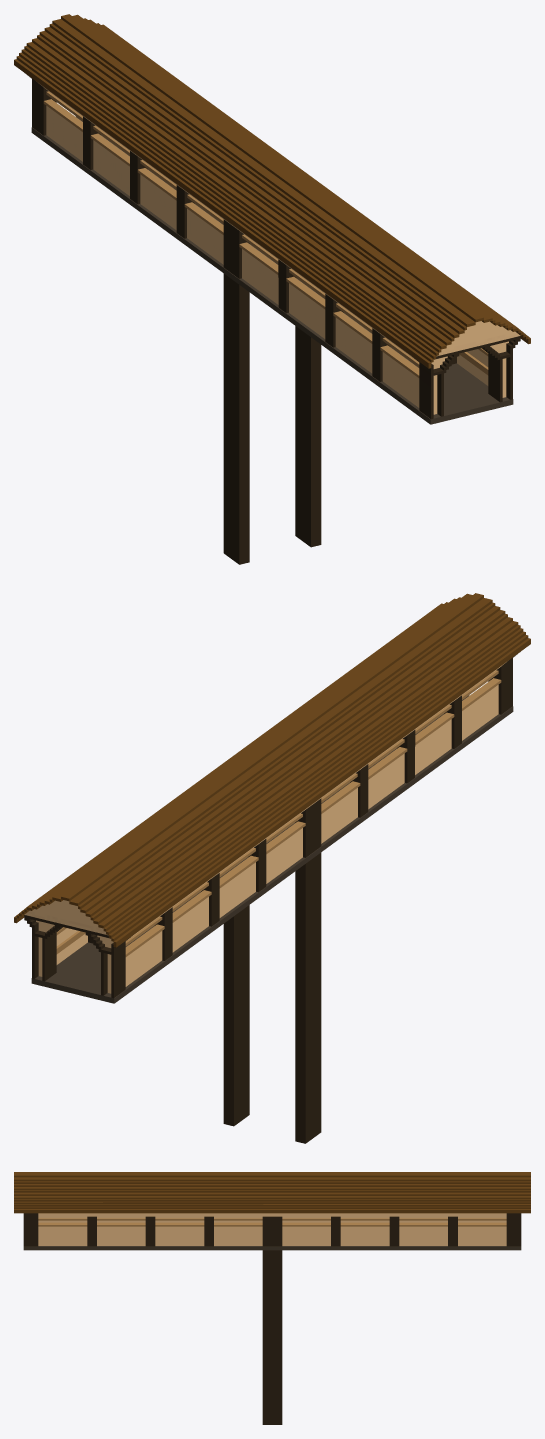
Rendered from bridge_alt_01.fbx.
3 views of the same model, one above another, from view 1: azimuth 30°, elevation 25°; view 2: azimuth 150°, elevation 25°; view 3: azimuth 270°, elevation 25° (orthographic). The views are drawn at different scales.
Parts seen in each view (by area): view 1: bridge; view 2: bridge; view 3: bridge.
Part boxes in pixels (box(x1,y1,x2,y2)): bridge: box(14, 14, 530, 564); bridge: box(14, 593, 530, 1143); bridge: box(14, 1172, 530, 1424).
Size of the model in its own units: 1194 by 4260 by 8378.
